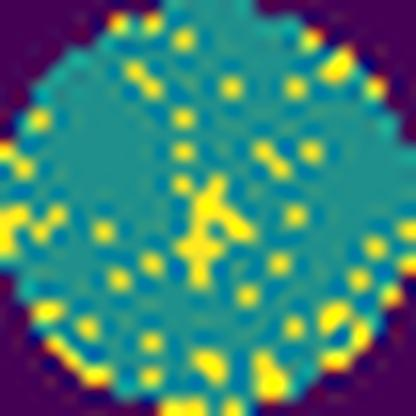Center: (177, 173, 256, 289)
